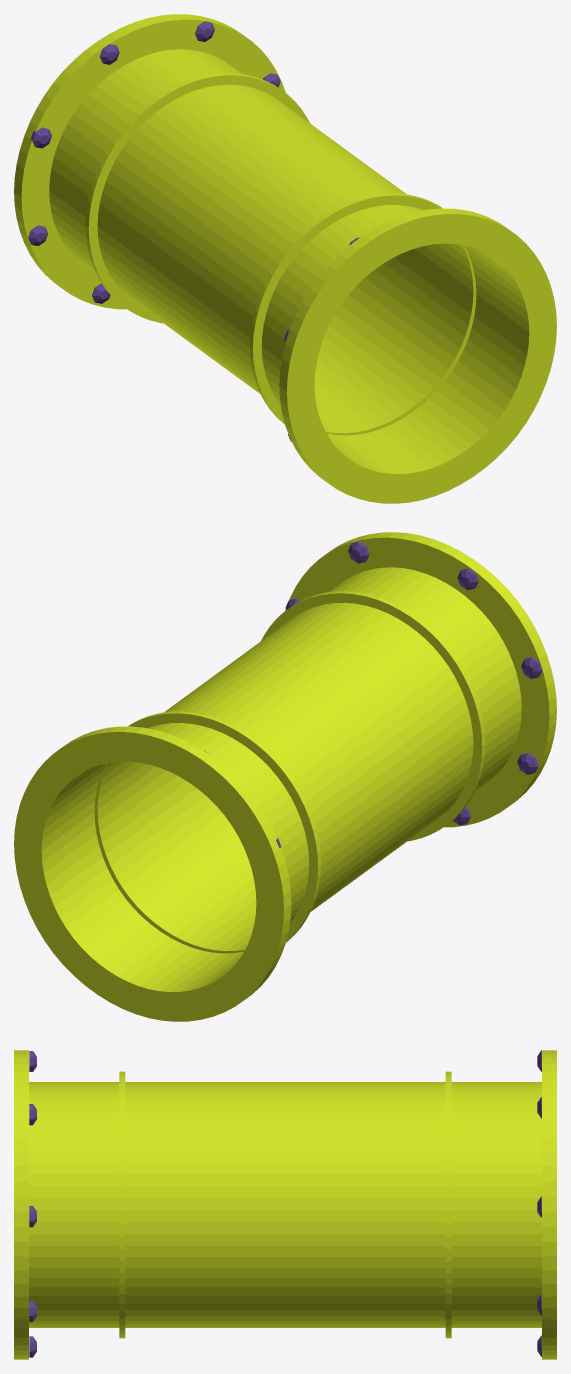
File: Cano_Curto_Anim.fbx
The picture shows the model from 3 angles, top to bottom: view 1: azimuth 30°, elevation 25°; view 2: azimuth 150°, elevation 25°; view 3: azimuth 270°, elevation 25°; orthographic projection.
Visible parts, largest first — view 1: Cano; view 2: Cano; view 3: Cano.
Boxes of the visible parts, left/top/right/bottom form: Cano: left=14, top=14, right=556, bottom=503; Cano: left=14, top=532, right=556, bottom=1021; Cano: left=14, top=1050, right=556, bottom=1359.
Size of the model in its own units: 2.27 by 2.27 by 3.97.
